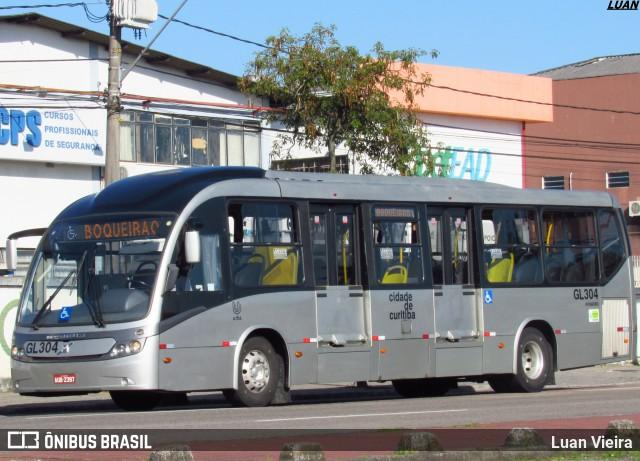BOQUEIRAO: (79, 217, 164, 241)
